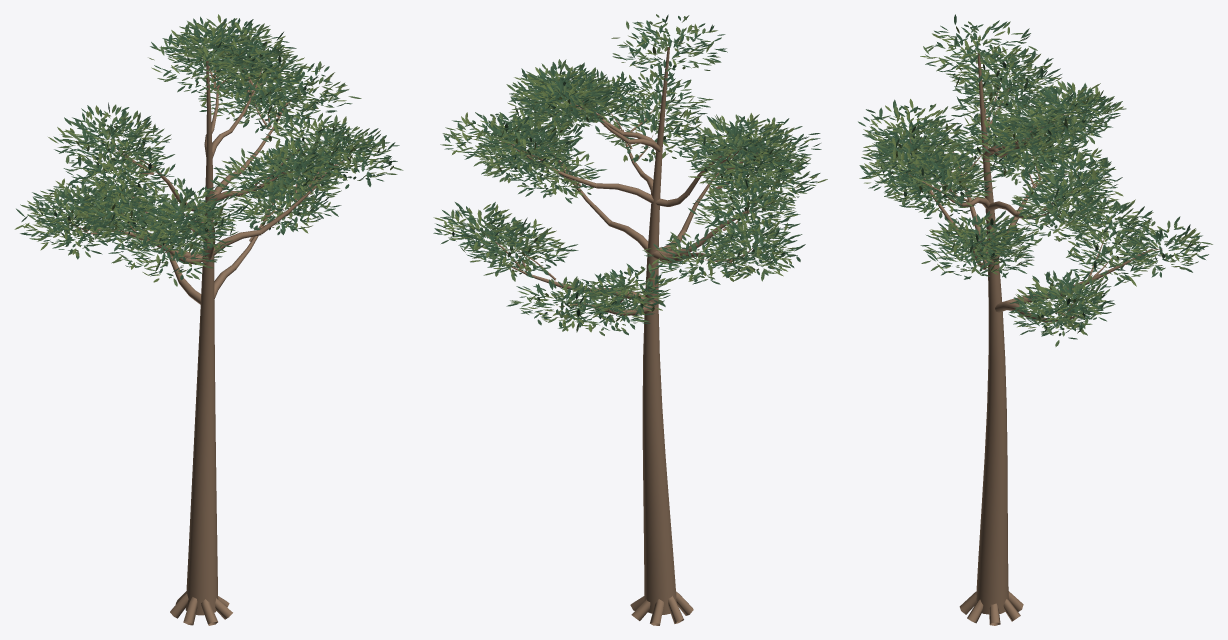
The model's file is Pin_Cotier_1_High.fbx.
3 renders of one model, left to right at view 1: azimuth 30°, elevation 25°; view 2: azimuth 150°, elevation 25°; view 3: azimuth 270°, elevation 25°, orthographic.
Parts seen in each view (by area): view 1: Pin_Cotier_1_High; view 2: Pin_Cotier_1_High; view 3: Pin_Cotier_1_High.
Part boxes in pixels (bbox=[...]): Pin_Cotier_1_High: bbox=[14, 14, 403, 625]; Pin_Cotier_1_High: bbox=[433, 14, 827, 625]; Pin_Cotier_1_High: bbox=[858, 14, 1212, 625].
Bounding box in the file's own units: 767 × 1239 × 680.
